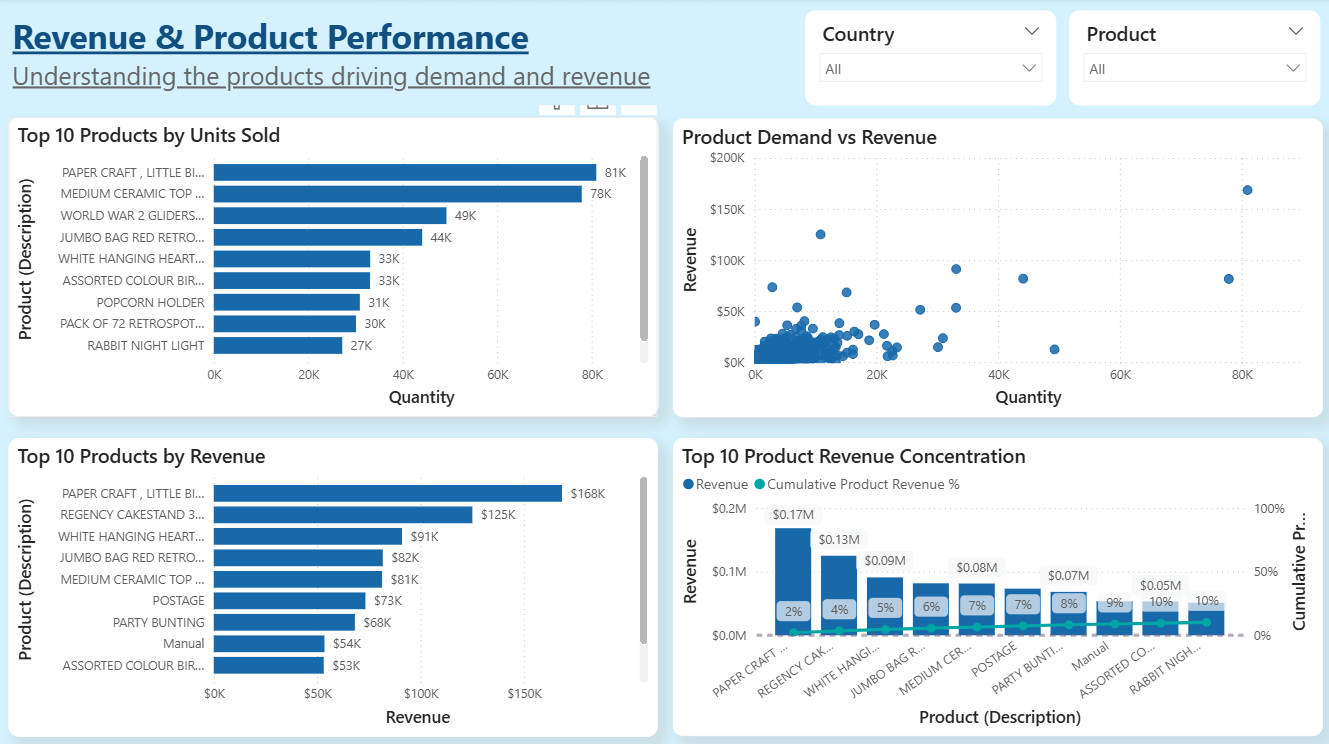

The page's visual inventory and layout, read from the dashboard file:
{"tool":"powerbi","page":{"name":"Revenue & Product Performance","canvas":[1280,720],"ordinal":2},"visuals":[{"type":"barChart","title":"Top 10 Products by Revenue","fields":{"Y":["Online Retail Data Set.Total Revenue"],"Category":["Online Retail Data Set.Description"]},"box":[12.5,420.9,620,285],"z":0},{"type":"barChart","title":"Top 10 Products by Units Sold","fields":{"Category":["Online Retail Data Set.Description"],"Y":["Sum(Online Retail Data Set.Quantity)"]},"box":[12.7,114.5,620.3,286.3],"z":1000},{"type":"scatterChart","title":"Product Demand vs Revenue","fields":{"X":["Sum(Online Retail Data Set.Quantity)"],"Y":["Online Retail Data Set.Total Revenue"],"Category":["Online Retail Data Set.Description"]},"box":[647.6,116.3,620.3,285],"z":2000},{"type":"lineStackedColumnComboChart","title":"Top 10 Product Revenue Concentration","fields":{"Y2":["Online Retail Data Set.Cumulative Product Revenue %"],"Category":["Online Retail Data Set.Description"],"Y":["Online Retail Data Set.Total Revenue"]},"box":[648,421.7,620.3,284.7],"z":3000},{"type":"slicer","fields":{"Values":["Online Retail Data Set.Country"]},"box":[773.7,12.7,240.2,90.7],"z":4000},{"type":"slicer","title":"p\\\\\\","fields":{"Values":["Online Retail Data Set.Description"]},"box":[1025.2,12.9,240.2,90.7],"z":5000},{"type":"textbox","box":[11.5,10,693.3,93.1],"z":6000}]}

Visuals, with their boxes in screenshot pixels (x1, y1, x2, y2), scaled from the page's 1280x720 canvas onto the 1329x744 screenshot:
"Top 10 Products by Revenue" barChart: locate(13, 435, 657, 729)
"Top 10 Products by Units Sold" barChart: locate(13, 118, 657, 414)
"Product Demand vs Revenue" scatterChart: locate(672, 120, 1316, 415)
"Top 10 Product Revenue Concentration" lineStackedColumnComboChart: locate(673, 436, 1317, 730)
slicer - Online Retail Data Set.Country: locate(803, 13, 1053, 107)
"p\\\" slicer: locate(1064, 13, 1314, 107)
textbox: locate(12, 10, 732, 107)
